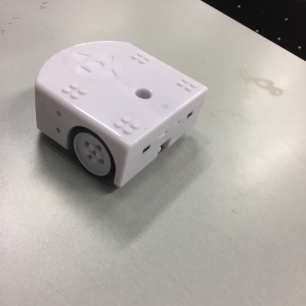thymio: (26, 39, 209, 189)
